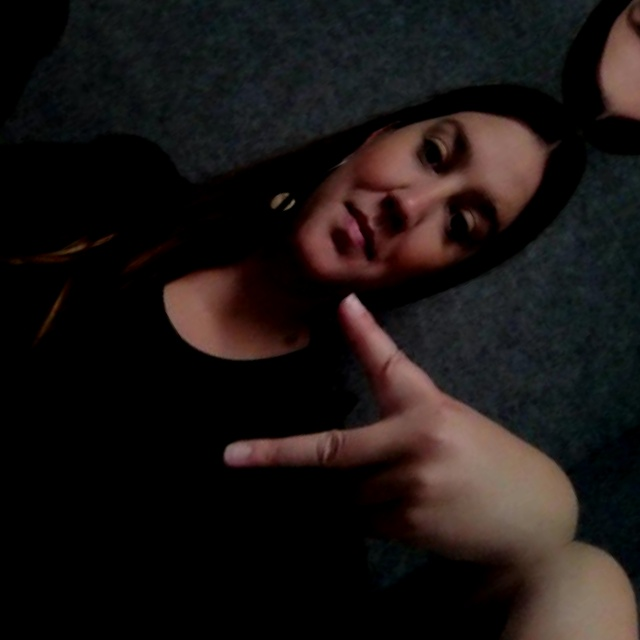Scissors: (185, 239, 590, 640)
